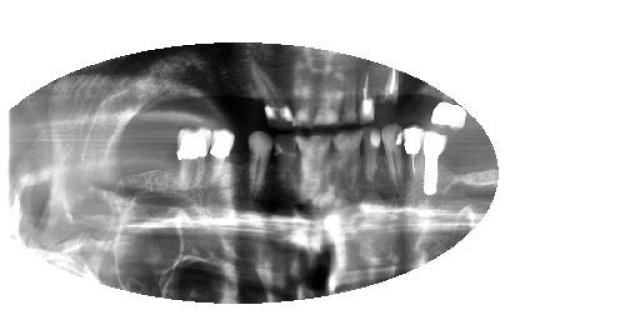Cavity: (252, 61, 296, 132), (378, 68, 402, 114)
Fillings: (175, 128, 214, 192), (210, 125, 236, 185), (430, 96, 469, 129)
Implant: (421, 129, 450, 196), (402, 125, 423, 181), (358, 70, 378, 125)
